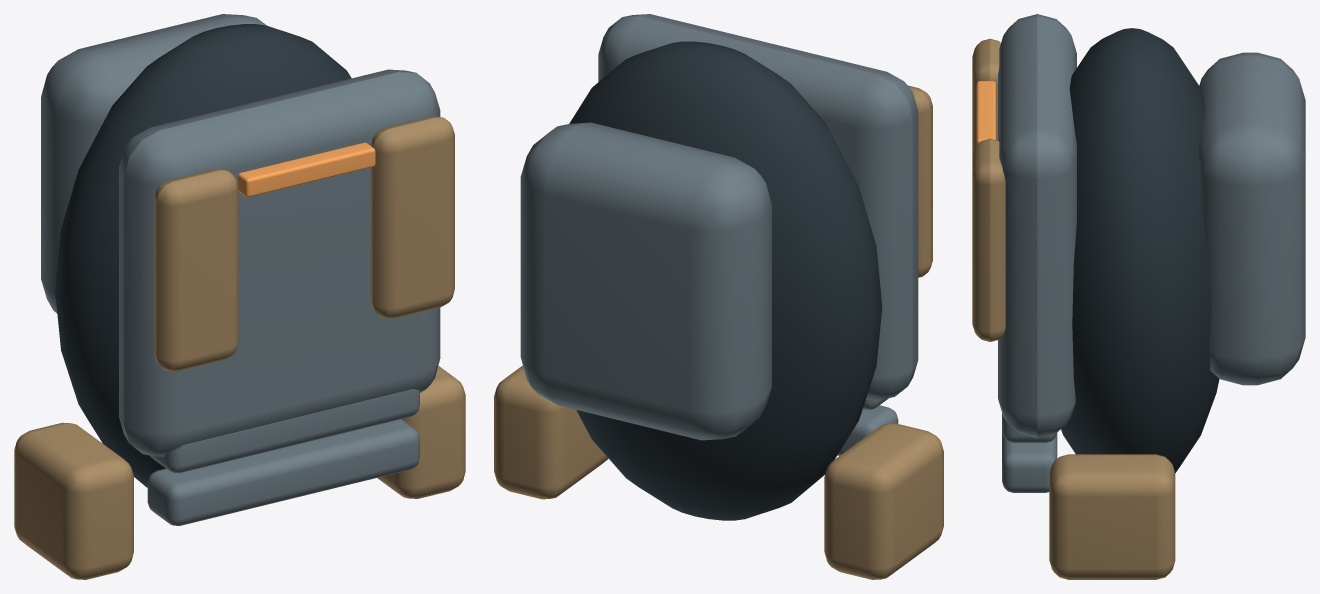
File: security_torso.fbx
The picture shows the model from 3 angles, left to right: view 1: azimuth 30°, elevation 25°; view 2: azimuth 150°, elevation 25°; view 3: azimuth 270°, elevation 25°; orthographic projection. The views are drawn at different scales.
Visible parts, largest first — view 1: security_torso; view 2: security_torso; view 3: security_torso.
Boxes of the visible parts, <box> form: security_torso: <box>14,14,465,579</box>; security_torso: <box>494,14,943,579</box>; security_torso: <box>972,14,1305,579</box>.
Bounding box in the file's own units: 55.5 × 42.25 × 63.5.
